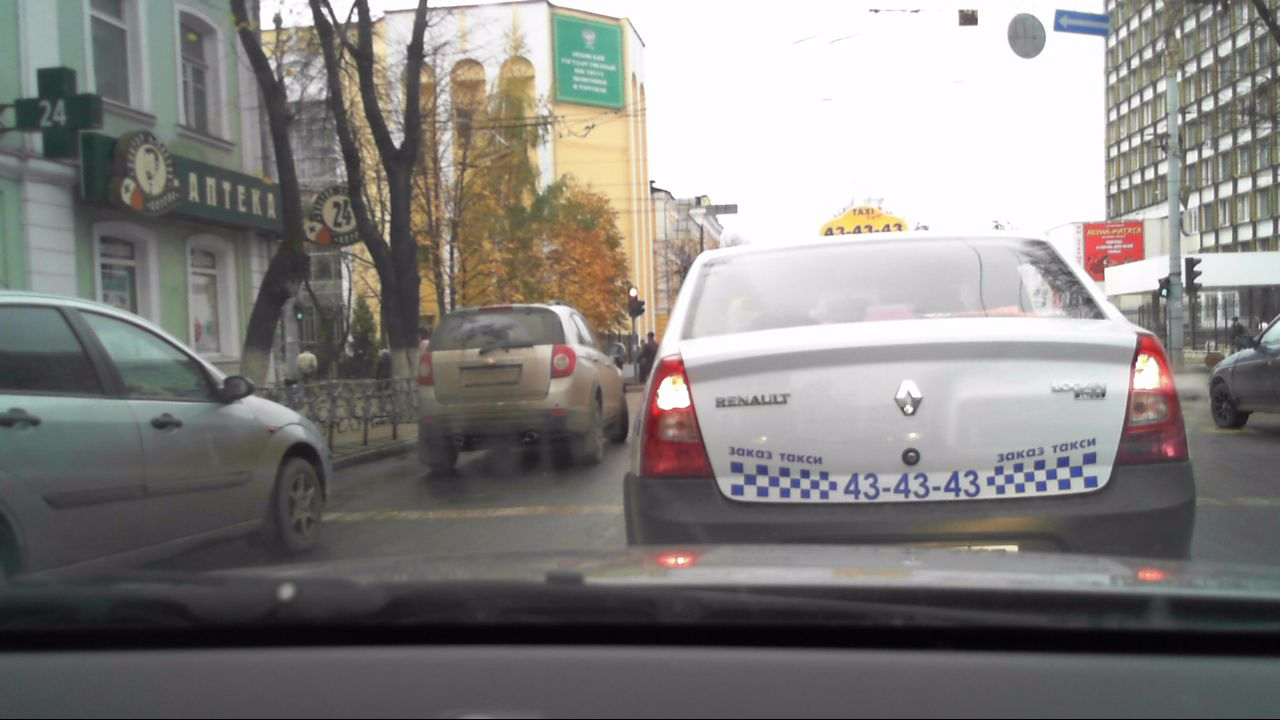One-Way Traffic: (1054, 9, 1109, 35)
